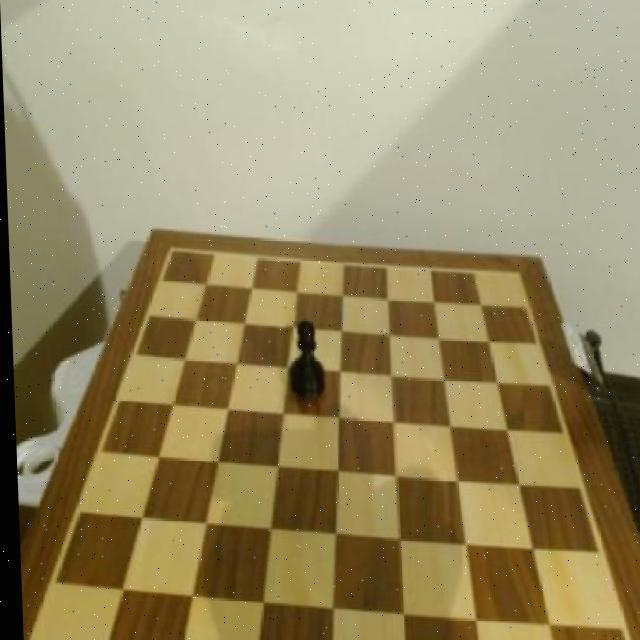black-knight: (281, 312, 327, 406)
